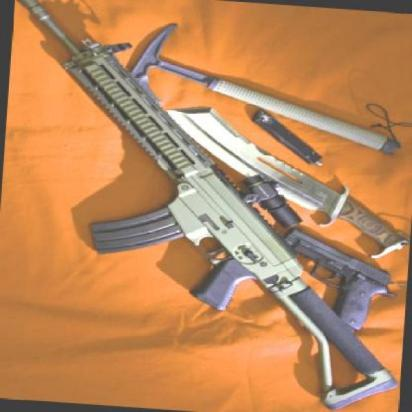Gun: (0, 7, 412, 399)
